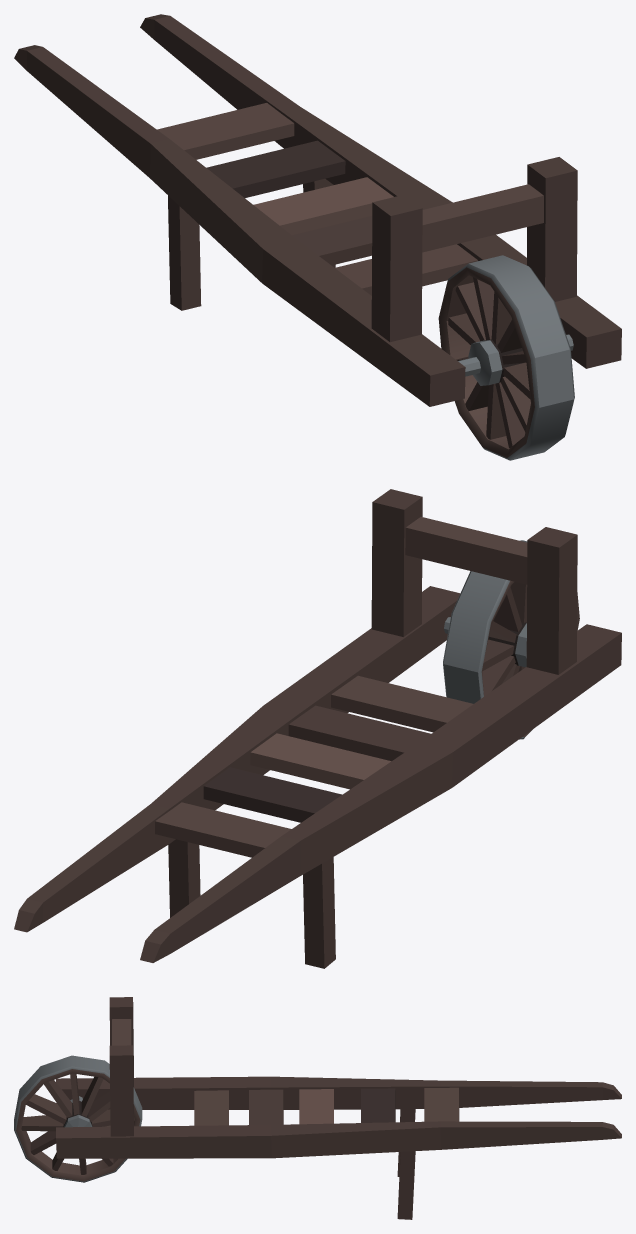
Rendered from SM_Wheelbarrow.fbx.
3 renders of one model, top to bottom at view 1: azimuth 30°, elevation 25°; view 2: azimuth 150°, elevation 25°; view 3: azimuth 270°, elevation 25°, orthographic. The views are drawn at different scales.
Visible parts, largest first — view 1: SM_Wheelbarrow; view 2: SM_Wheelbarrow; view 3: SM_Wheelbarrow.
Boxes of the visible parts, x1,y1,x2,y2 form: SM_Wheelbarrow: [14, 14, 621, 460]; SM_Wheelbarrow: [14, 489, 621, 968]; SM_Wheelbarrow: [14, 997, 621, 1219].
Bounding box in the file's own units: 64.32 × 85.09 × 276.
1 material, 1 textured.
